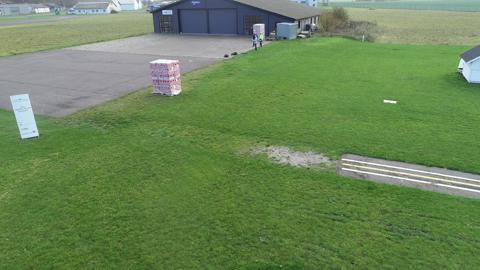RockwoolPallet: (253, 23, 266, 43)
